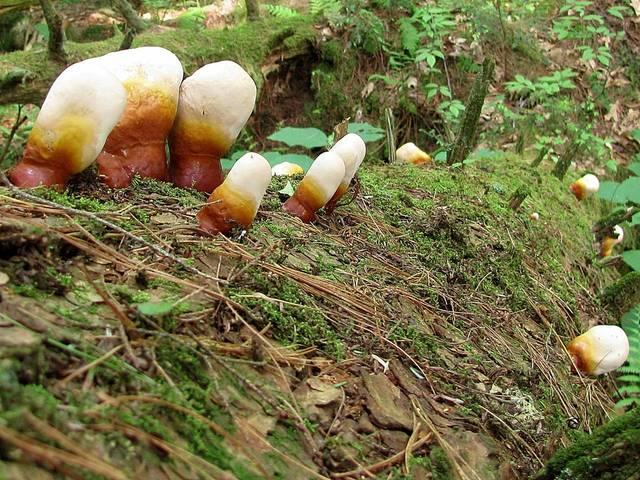poisonous_mushroom: (8, 44, 183, 192), (169, 59, 257, 192), (281, 131, 366, 222), (195, 150, 272, 237), (566, 323, 629, 376)
